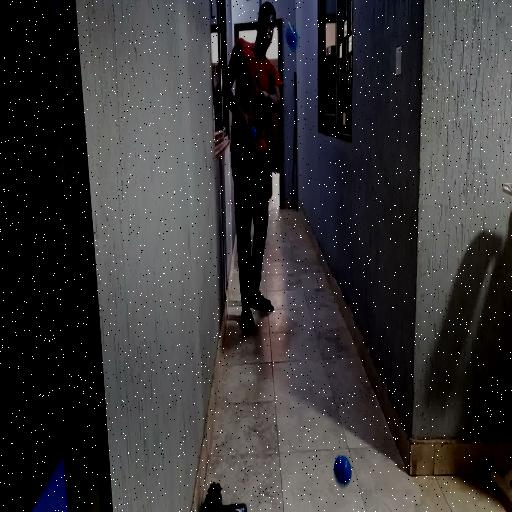plastic-ball: (286, 23, 300, 52)
